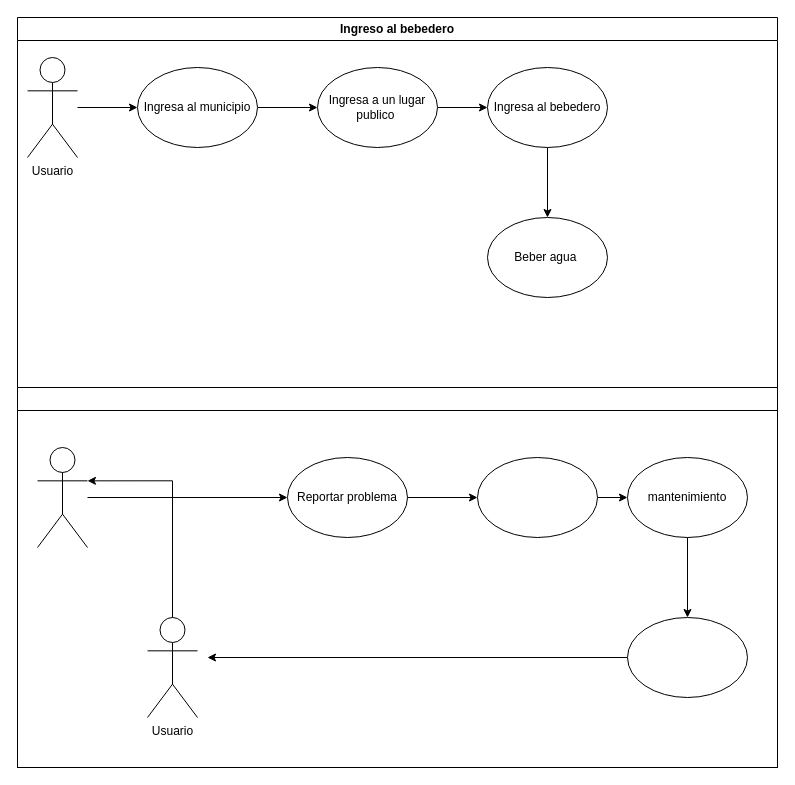
This 795x785 diagram has some shape labels left out. The box of each missing label's shape, as (x1, y1, x2, y2) in pixels:
Informar dispnibilidad: (626, 616, 748, 698)
Reporte de fallo: (16, 386, 778, 768)
Supervisor: (36, 446, 88, 548)
Verificar el estado: (476, 456, 598, 538)
